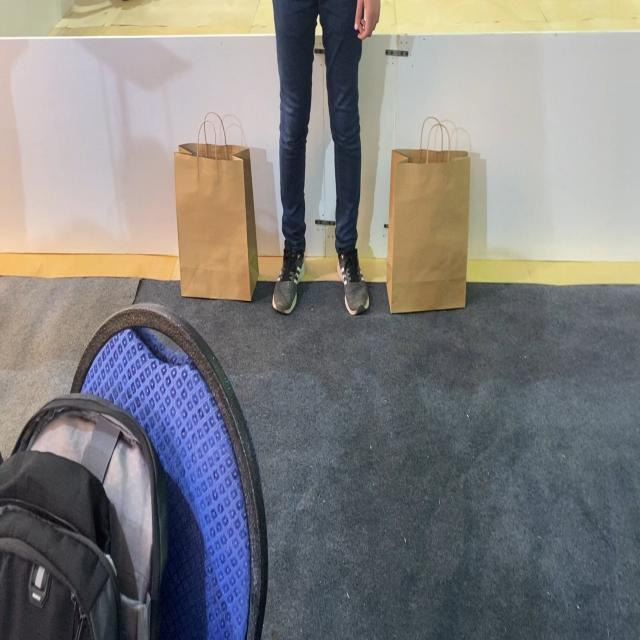Paper_Bag: (386, 116, 471, 314), (173, 111, 260, 302)
